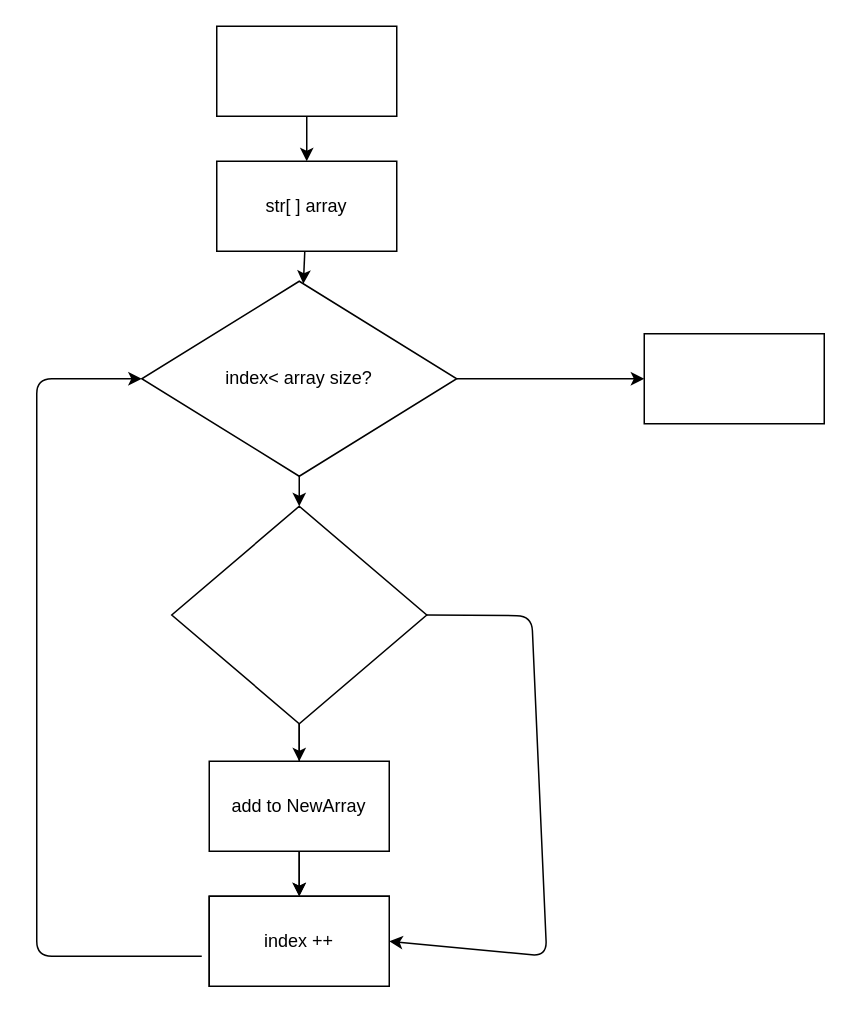
This 851x1013 diagram has some shape labels left out. The centre of each missing label's shape, as x and y in pixels:
"Print NewArray" goes at pixel 733 378.
"Start" goes at pixel 306 70.
"string < = 3" goes at pixel 298 614.
